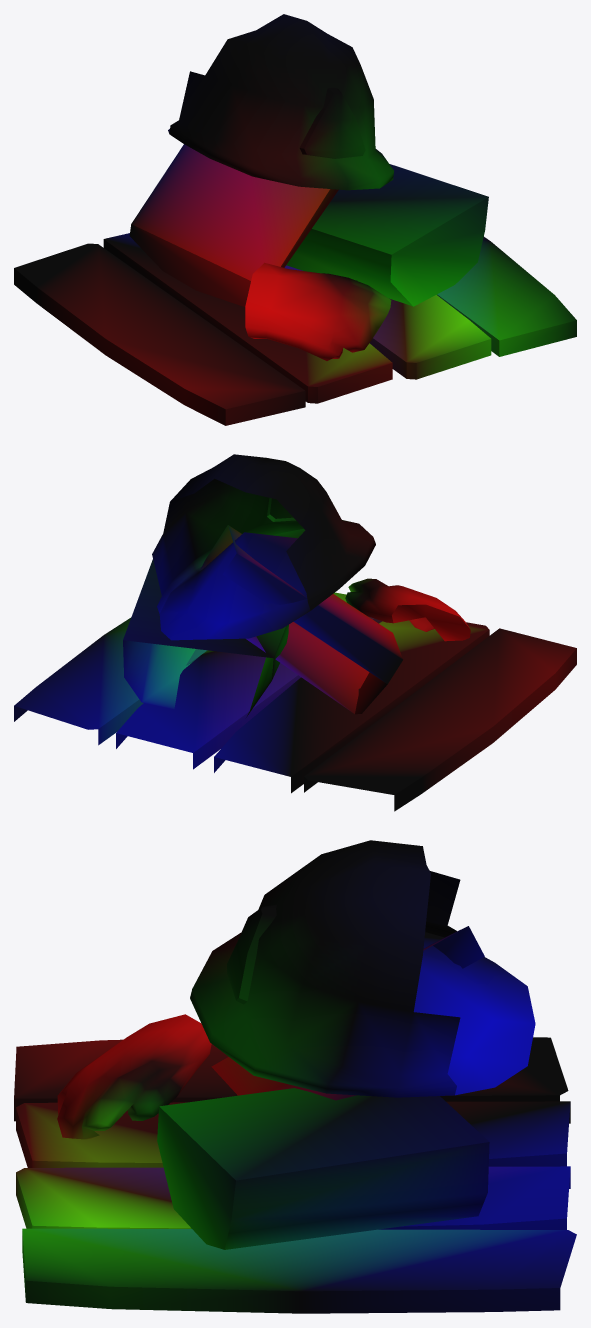
Rendered from mucaijiagong_gongzuocao.fbx.
3 renders of one model, top to bottom at view 1: azimuth 30°, elevation 25°; view 2: azimuth 150°, elevation 25°; view 3: azimuth 270°, elevation 25°, orthographic. The views are drawn at different scales.
Visible parts, largest first — view 1: mucaijiagong_gongzuocao; view 2: mucaijiagong_gongzuocao; view 3: mucaijiagong_gongzuocao.
Boxes of the visible parts, x1,y1,x2,y2 form: mucaijiagong_gongzuocao: [14, 14, 576, 425]; mucaijiagong_gongzuocao: [14, 454, 576, 811]; mucaijiagong_gongzuocao: [14, 840, 576, 1313].
Size of the model in its own units: 123 by 77.62 by 114.
